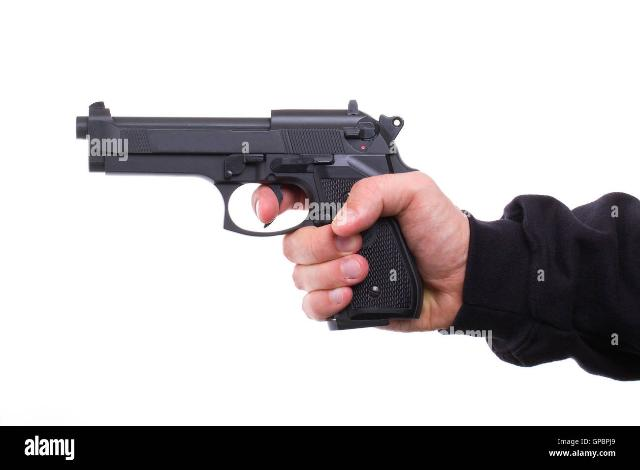handgun: (69, 96, 429, 339)
